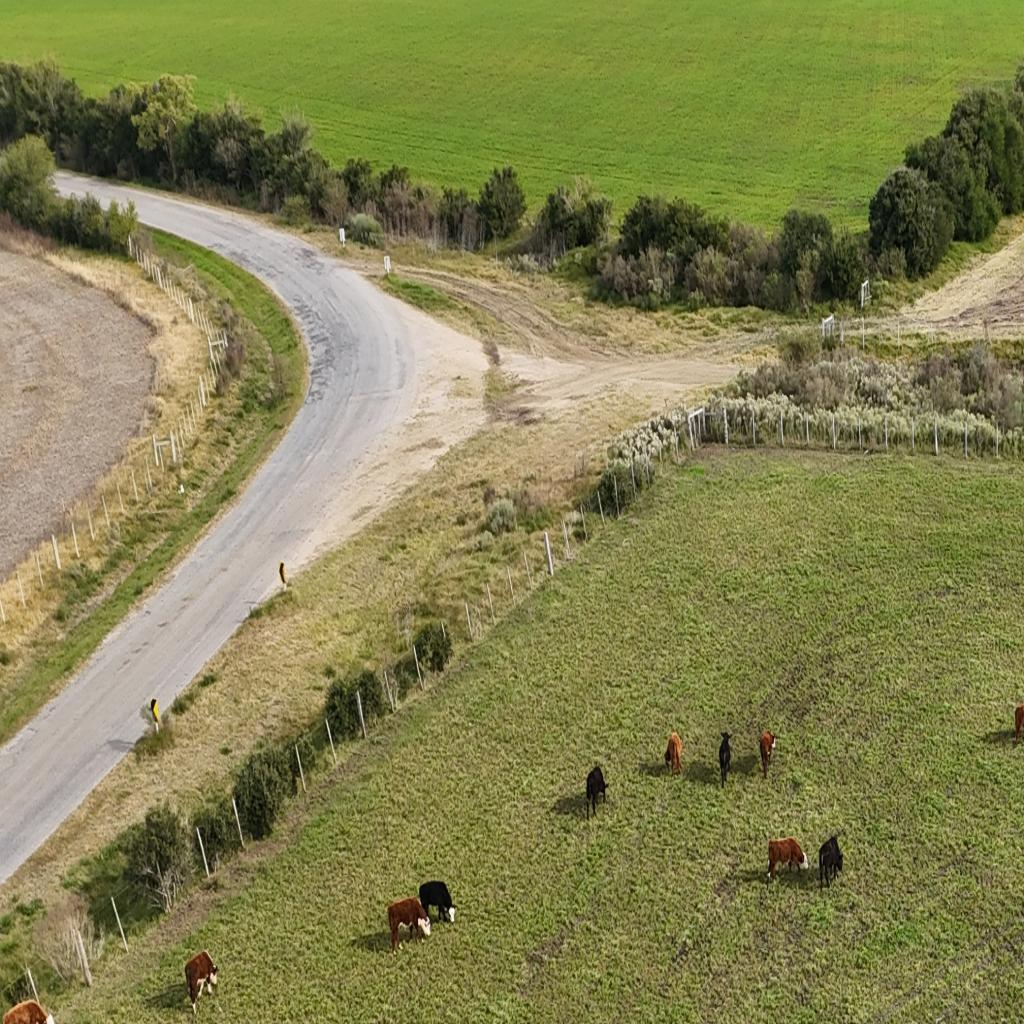cow: (384, 890, 431, 950), (417, 877, 458, 930), (185, 949, 219, 1008), (767, 836, 809, 879), (585, 764, 609, 820), (2, 998, 52, 1024), (820, 834, 843, 887), (1000, 699, 1022, 745), (759, 730, 778, 778), (718, 732, 733, 788), (665, 733, 683, 777)
